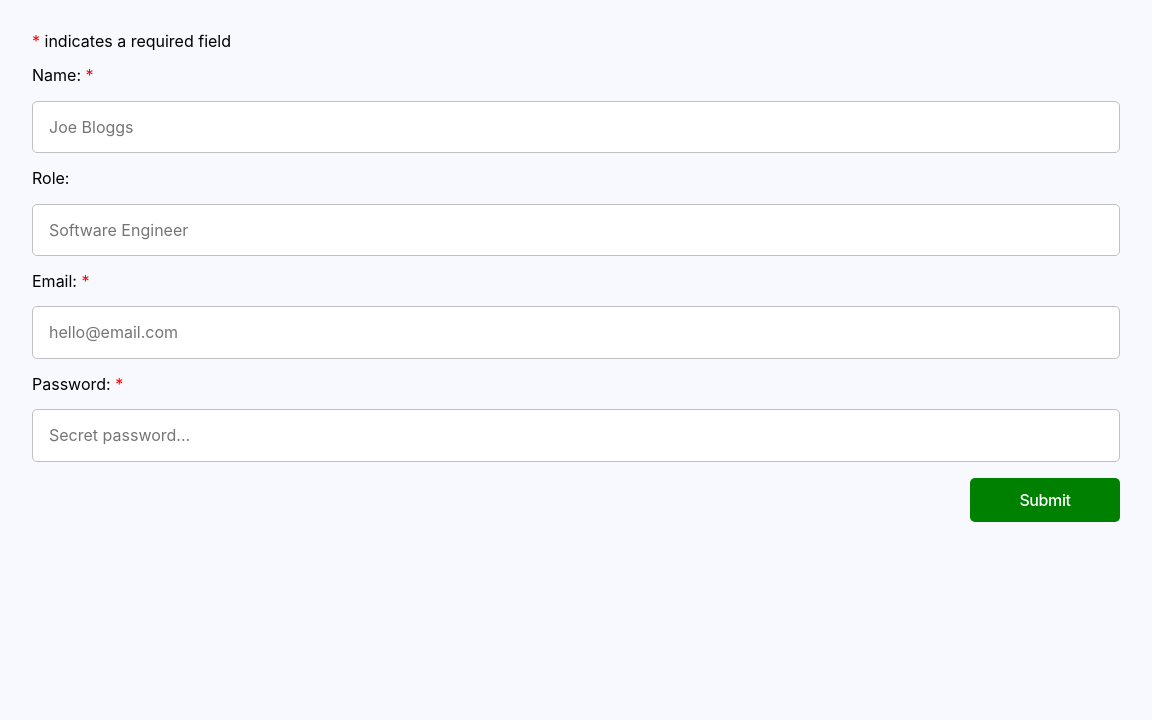
it: SignUpForm component › should block progress if no email
Step 1. Type "Dan" into the field with test id "signUpNameInput" → [576, 127], box left=32, top=101, right=1120, bottom=153
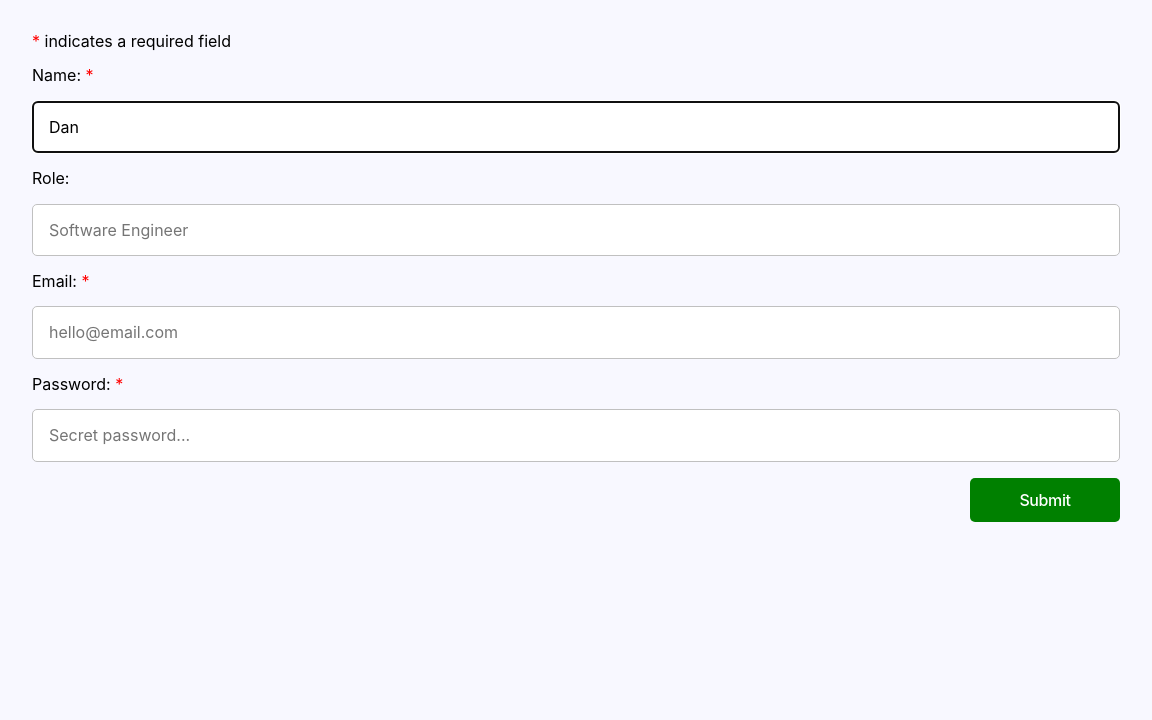
Step 2. Click the button with test id "signUpSubmitButton" → [1045, 500], box left=970, top=478, right=1120, bottom=522
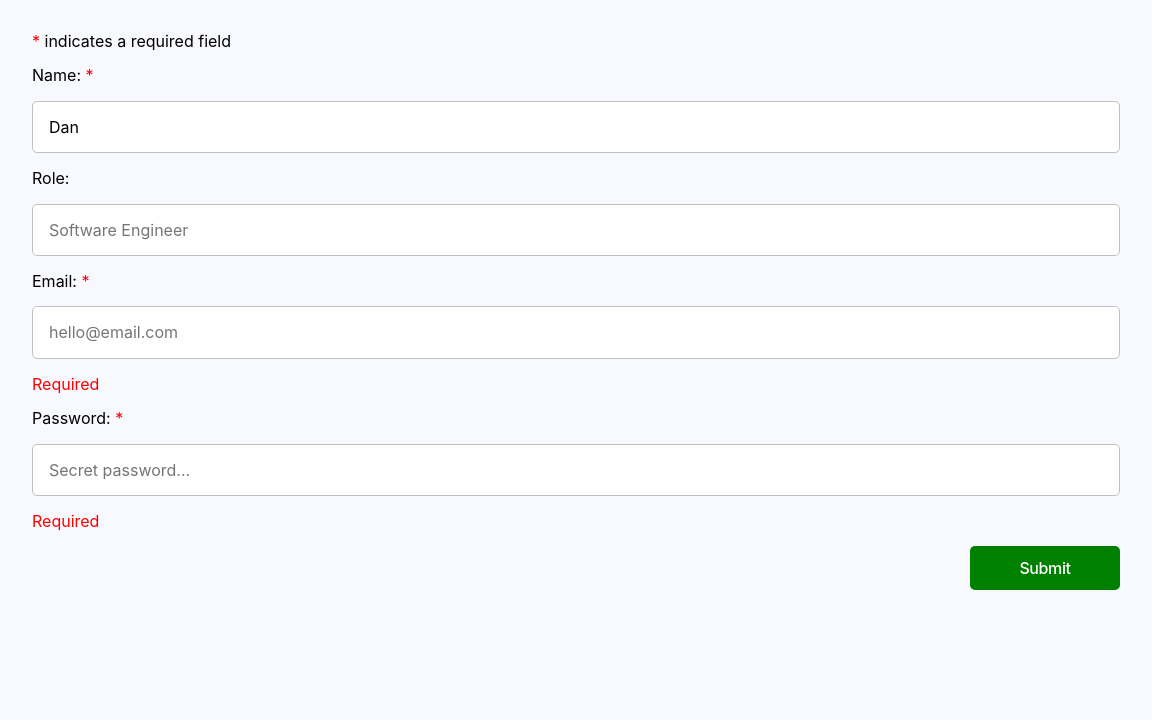
Expected: the text with test id "signUpEmailError" is shown, left=32, top=374, right=99, bottom=394
